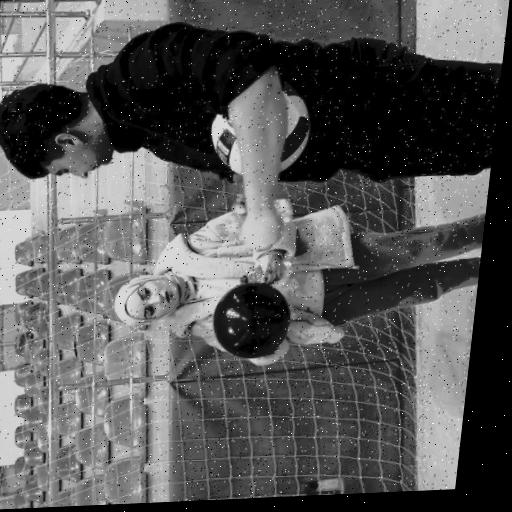balloon: (200, 280, 289, 357)
